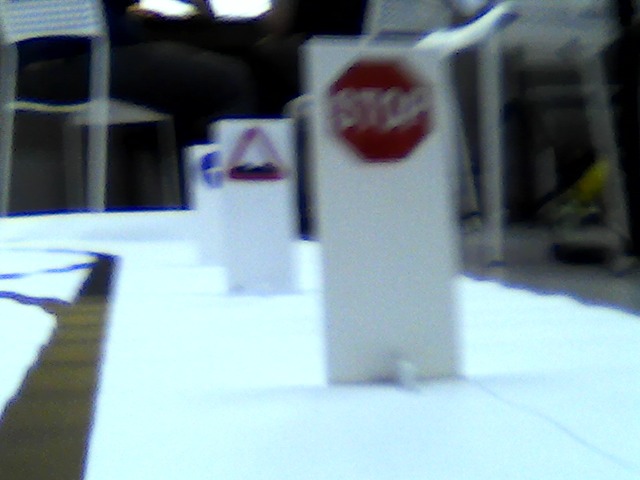Nerov: (228, 125, 290, 184)
Stop: (330, 58, 432, 166)
